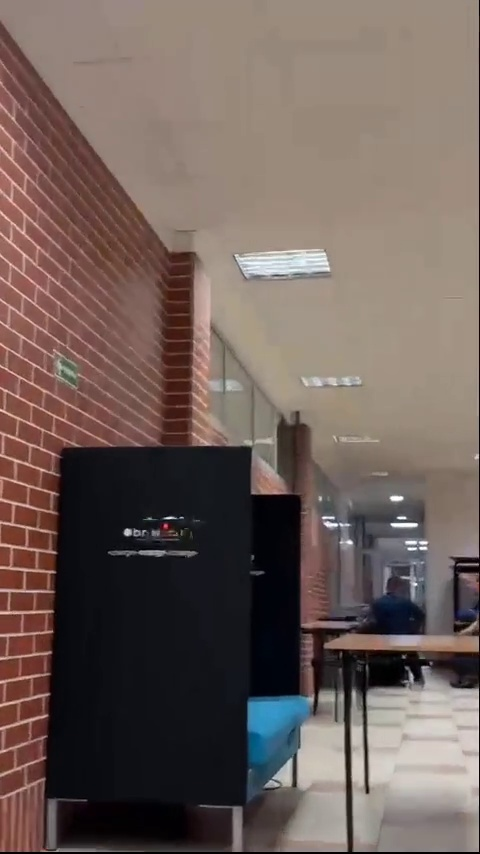drone: (144, 517, 195, 545)
no vest: (368, 571, 423, 633)
